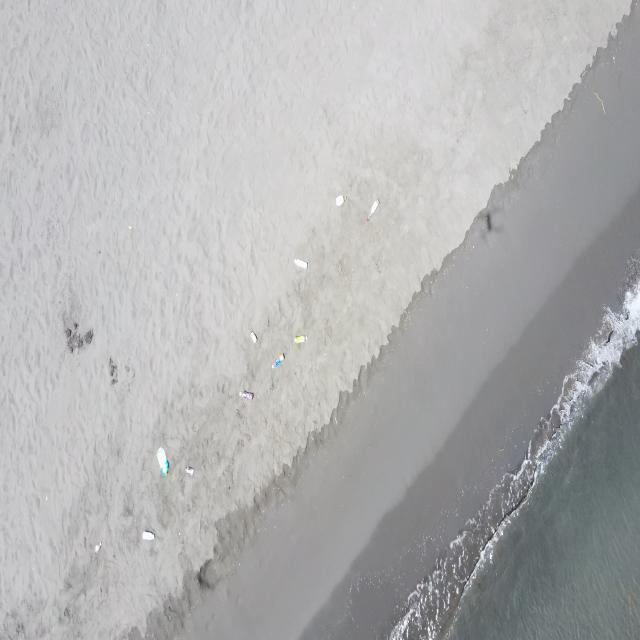plastic-bottle: (154, 446, 170, 477), (367, 199, 379, 222), (293, 256, 309, 270), (334, 194, 348, 209), (271, 354, 285, 369), (239, 389, 256, 401), (142, 528, 156, 542), (293, 334, 309, 345), (93, 541, 103, 555), (186, 466, 196, 477), (251, 330, 258, 343)
